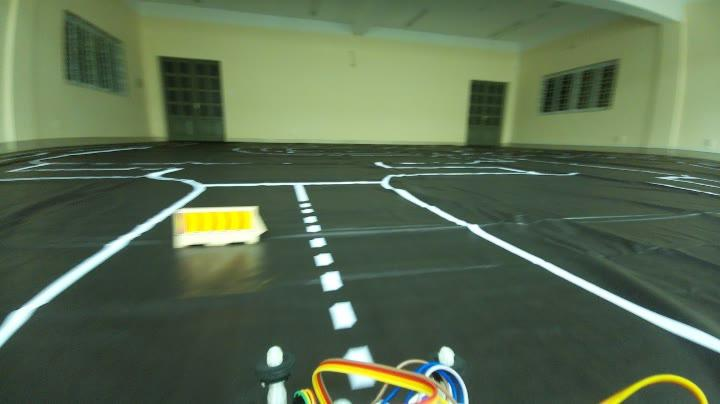roadblock: (168, 204, 272, 247)
